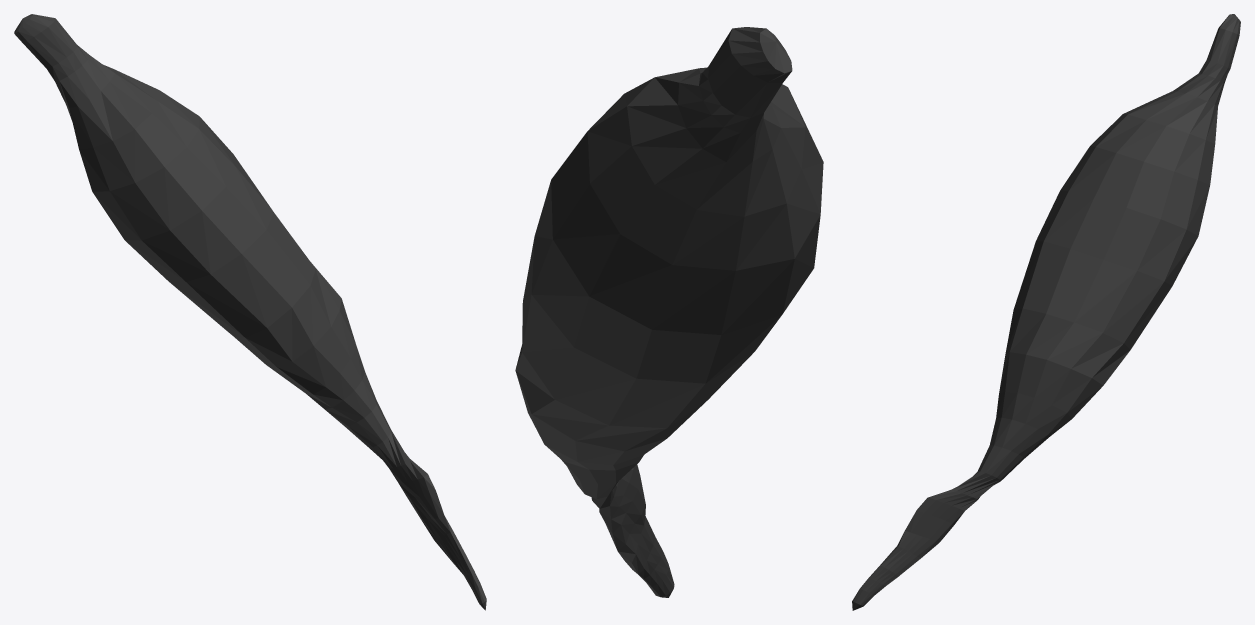
Rendered from Pectineus.glb.
3 views of the same model, side by side, from view 1: azimuth 30°, elevation 25°; view 2: azimuth 150°, elevation 25°; view 3: azimuth 270°, elevation 25° (orthographic). The views are drawn at different scales.
Visible parts, largest first — view 1: Pectineus; view 2: Pectineus; view 3: Pectineus.
Boxes of the visible parts, left/top/right/bottom form: Pectineus: left=14, top=14, right=486, bottom=610; Pectineus: left=515, top=27, right=823, bottom=597; Pectineus: left=852, top=14, right=1240, bottom=610.
Bounding box in the file's own units: 2.12 × 3.81 × 2.79.
1 material, 1 textured.
